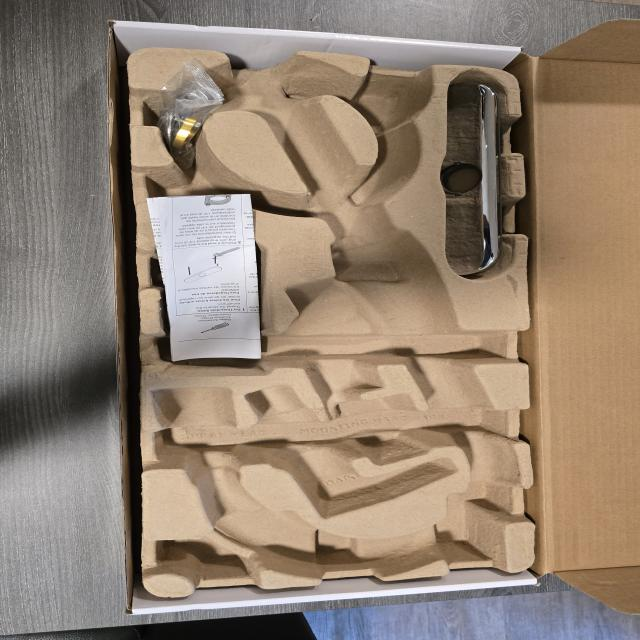1m: (152, 52, 521, 579)
2m: (246, 386, 458, 519)
3m: (154, 212, 266, 374)
4: (441, 82, 500, 274)
5m: (351, 86, 409, 127)
6: (143, 55, 230, 160)
7m: (146, 153, 268, 209)
8: (143, 194, 262, 362)
